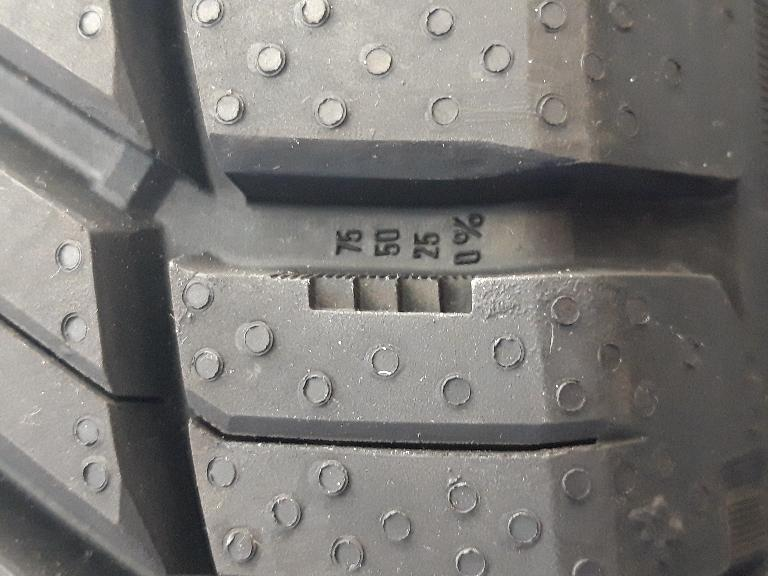temoin:100: (263, 263, 493, 325)
